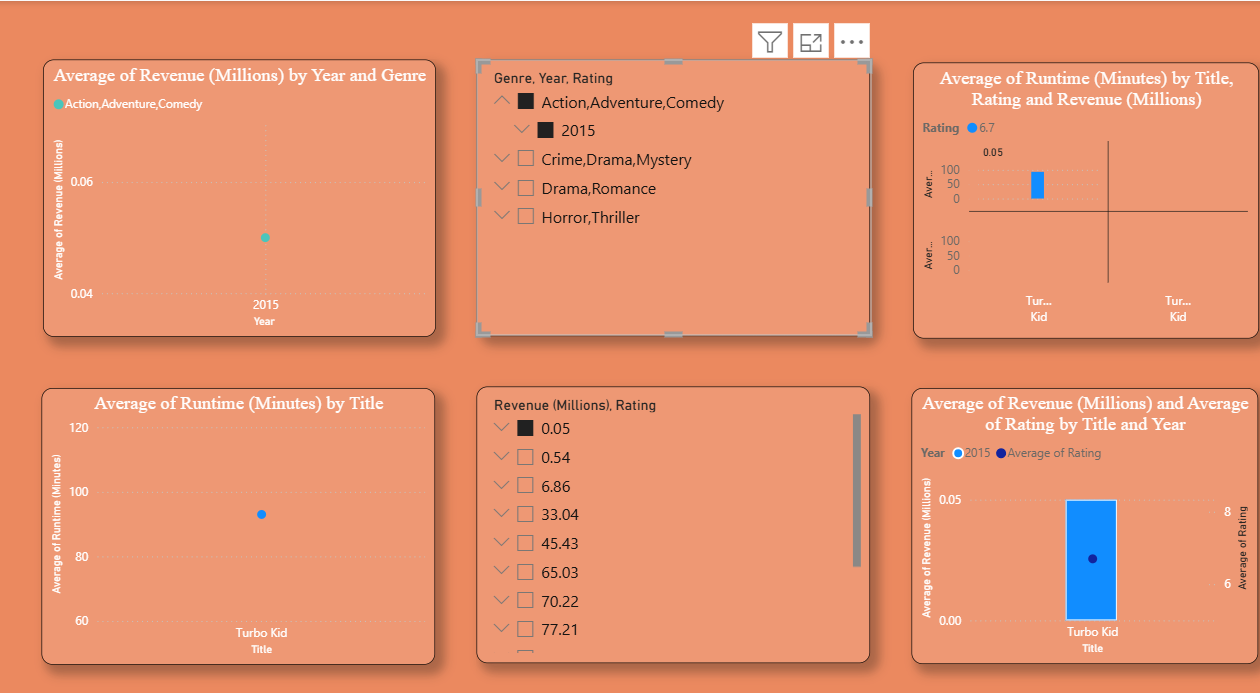

Layout of this report page (visuals, bound fields, positions):
{"tool":"powerbi","page":{"name":"Page 6","canvas":[1280,720],"ordinal":5},"visuals":[{"type":"lineChart","fields":{"Category":["IMDB-Movie-Data.Year"],"Y":["Avg(IMDB-Movie-Data.Revenue (Millions))"],"Series":["IMDB-Movie-Data.Genre"]},"box":[50.8,59,396.6,279.9],"z":0},{"type":"slicer","fields":{"Values":["IMDB-Movie-Data.Genre","IMDB-Movie-Data.Year","IMDB-Movie-Data.Rating"]},"box":[489.6,59.1,397.4,279.2],"z":1000},{"type":"lineChart","fields":{"Category":["IMDB-Movie-Data.Title"],"Y":["Avg(IMDB-Movie-Data.Runtime (Minutes))"]},"box":[49.5,390.5,397.4,279.2],"z":2000},{"type":"slicer","fields":{"Values":["IMDB-Movie-Data.Revenue (Millions)","IMDB-Movie-Data.Rating"]},"box":[489.6,389.2,397.4,279.2],"z":3000},{"type":"ribbonChart","fields":{"Category":["IMDB-Movie-Data.Title"],"Y":["Avg(IMDB-Movie-Data.Runtime (Minutes))"],"Rows":["IMDB-Movie-Data.Revenue (Millions)"],"Series":["IMDB-Movie-Data.Rating"]},"box":[929.8,61.5,349.6,278.5],"z":4000},{"type":"lineStackedColumnComboChart","fields":{"Category":["IMDB-Movie-Data.Title"],"Y2":["Avg(IMDB-Movie-Data.Rating)"],"Series":["IMDB-Movie-Data.Year"],"Y":["Avg(IMDB-Movie-Data.Revenue (Millions))"]},"box":[928.2,390.7,349.8,278.6],"z":5000}]}

Visuals, with their boxes in screenshot pixels (x1, y1, x2, y2), scaled from the page's 1280x720 canvas onto the 1260x693 screenshot:
lineChart - IMDB-Movie-Data.Year x Avg(IMDB-Movie-Data.Revenue (Millions)): locate(50, 57, 440, 326)
slicer - IMDB-Movie-Data.Genre x IMDB-Movie-Data.Year: locate(482, 57, 873, 326)
lineChart - IMDB-Movie-Data.Title x Avg(IMDB-Movie-Data.Runtime (Minutes)): locate(49, 376, 440, 645)
slicer - IMDB-Movie-Data.Revenue (Millions) x IMDB-Movie-Data.Rating: locate(482, 375, 873, 643)
ribbonChart - IMDB-Movie-Data.Title x Avg(IMDB-Movie-Data.Runtime (Minutes)): locate(915, 59, 1259, 327)
lineStackedColumnComboChart - IMDB-Movie-Data.Title x Avg(IMDB-Movie-Data.Rating): locate(914, 376, 1258, 644)
